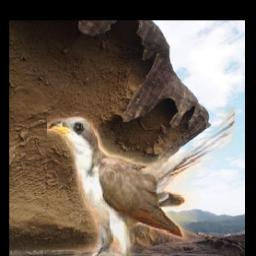Cuckoo: (47, 107, 235, 256)
